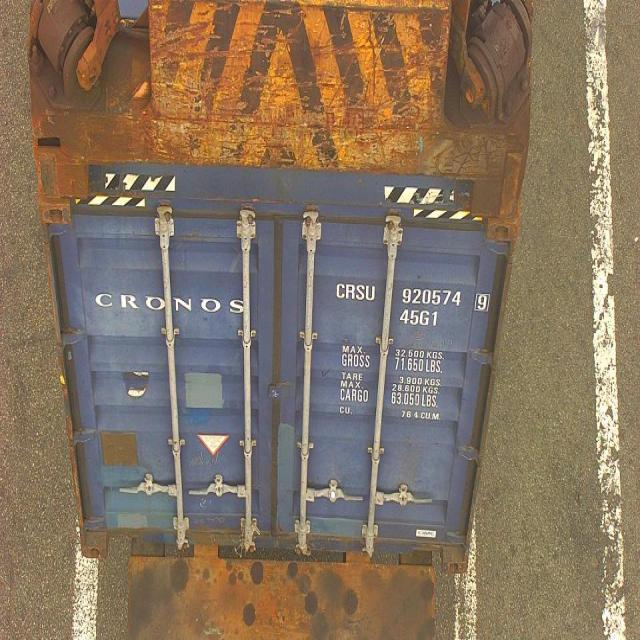ISO: (400, 312, 440, 328)
container_number: (338, 283, 492, 309)
